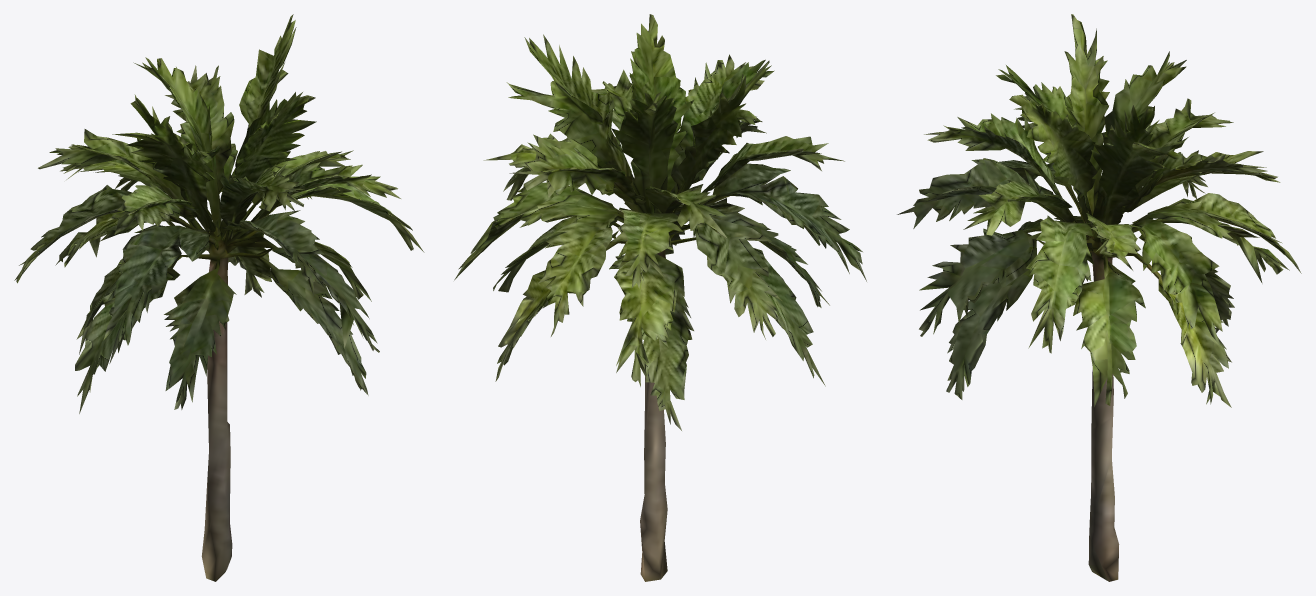
File: baum_palme.glb
3 renders of one model, left to right at view 1: azimuth 30°, elevation 25°; view 2: azimuth 150°, elevation 25°; view 3: azimuth 270°, elevation 25°, orthographic. The views are drawn at different scales.
Visible parts, largest first — view 1: tripo_node_942ebbba-6de3-4d1c-988b-5af95f5ca6c0; view 2: tripo_node_942ebbba-6de3-4d1c-988b-5af95f5ca6c0; view 3: tripo_node_942ebbba-6de3-4d1c-988b-5af95f5ca6c0.
Boxes of the visible parts, x1,y1,x2,y2 form: tripo_node_942ebbba-6de3-4d1c-988b-5af95f5ca6c0: (14,14,424,581); tripo_node_942ebbba-6de3-4d1c-988b-5af95f5ca6c0: (454,14,866,581); tripo_node_942ebbba-6de3-4d1c-988b-5af95f5ca6c0: (897,14,1301,581).
Size of the model in its own units: 0.658 by 0.9873 by 0.6938.
Materials: 1 (1 with a texture image).
